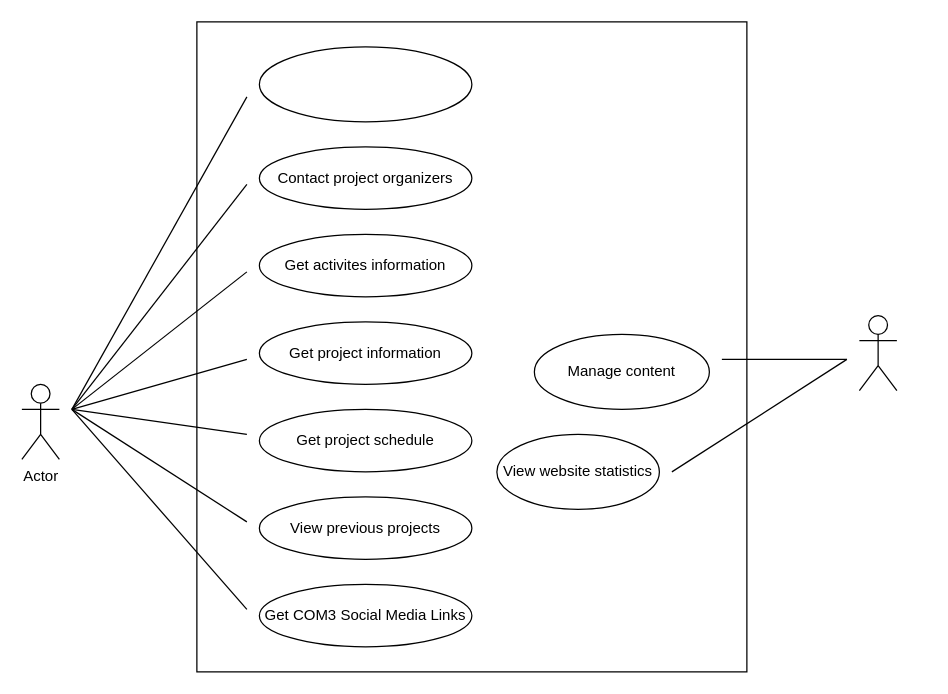
Some shapes in this 948 by 694 pixel diagram are drawn without their labels. The shapes that lost their labels are listed below. From the top down, each one's centre as x and y in pixels, then its label:
(x=365, y=84): Switch website language
(x=877, y=352): System Admin
